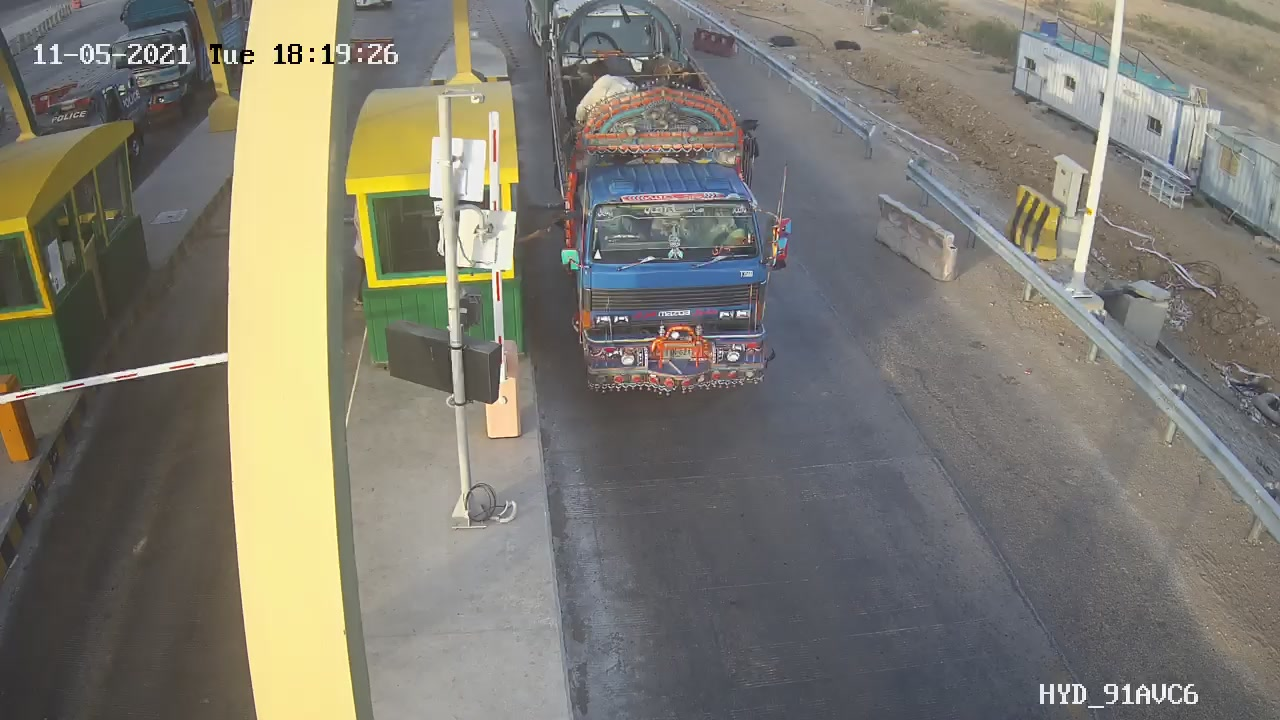F5: (554, 78, 796, 394)
